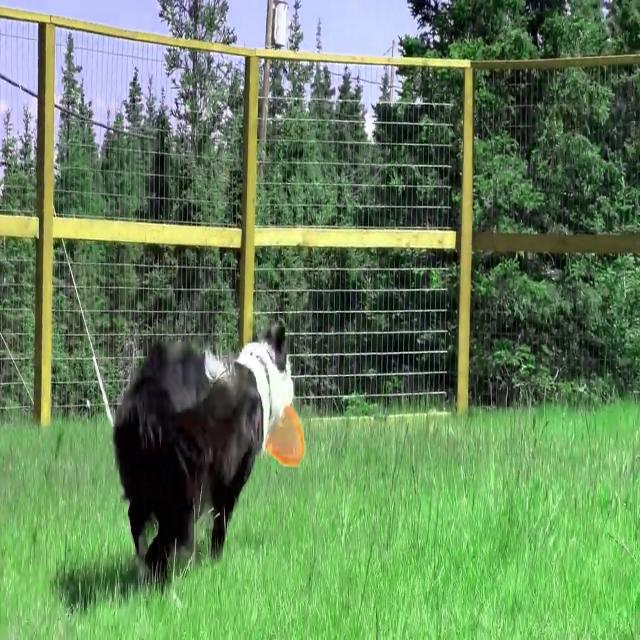Dog: (112, 323, 294, 583)
